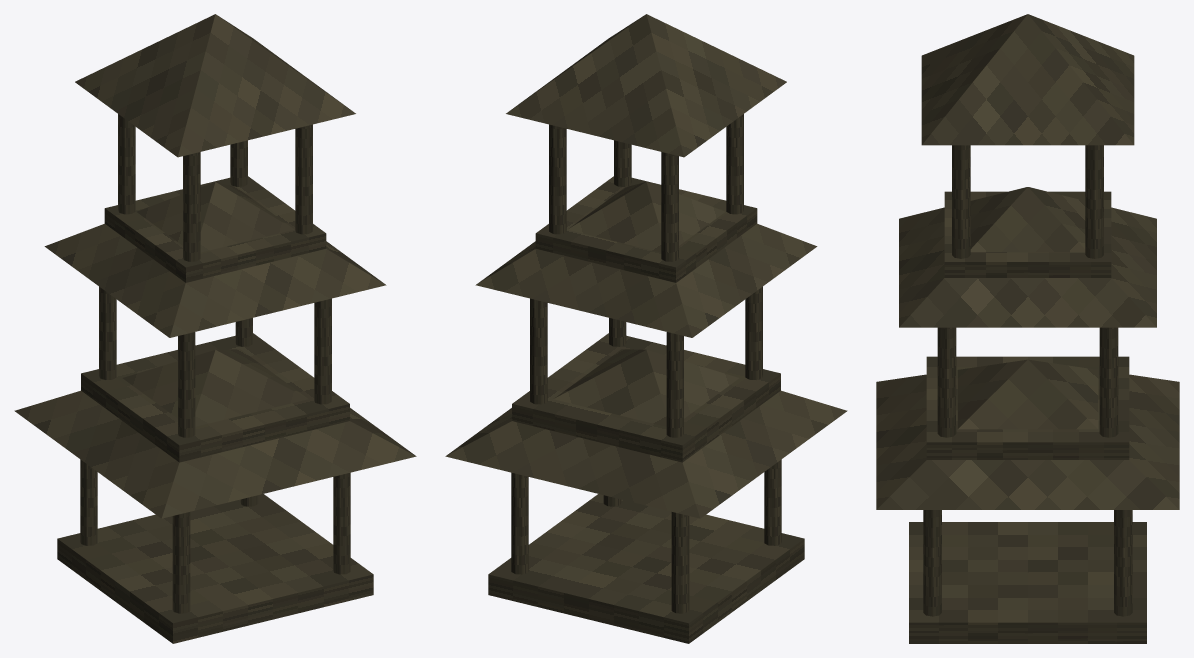
Rendered from pagoda_30.glb.
3 views of the same model, side by side, from view 1: azimuth 30°, elevation 25°; view 2: azimuth 150°, elevation 25°; view 3: azimuth 270°, elevation 25° (orthographic). The views are drawn at different scales.
Visible parts, largest first — view 1: Roof, Floor, Roof.001, Roof.002, Floor.001, Floor.002, Column.010, Column.008, Column, Column.004, Column.006, Column.002 (+4 smaller); view 2: Roof, Floor, Roof.001, Roof.002, Floor.001, Floor.002, Column.011, Column.009, Column.001, Column.005, Column.007, Column.003 (+4 smaller); view 3: Roof, Floor, Roof.001, Roof.002, Floor.001, Floor.002, Column.006, Column.007, Column.010, Column.011, Column.002, Column.003.
Part boxes in pixels (x1,y1,x2,y2): Roof: (14, 349, 416, 518); Floor: (57, 494, 373, 643); Roof.001: (44, 182, 386, 337); Roof.002: (75, 14, 355, 157); Floor.001: (81, 333, 349, 462); Floor.002: (104, 176, 326, 282); Column.010: (295, 124, 312, 234); Column.008: (183, 152, 200, 261); Column: (172, 512, 190, 613); Column.004: (178, 332, 195, 437); Column.006: (314, 298, 331, 404); Column.002: (333, 472, 350, 574); Roof: (445, 349, 847, 518); Floor: (488, 494, 804, 643); Roof.001: (475, 182, 817, 337); Roof.002: (506, 14, 786, 157); Floor.001: (512, 333, 780, 462); Floor.002: (535, 176, 757, 282); Column.011: (549, 124, 566, 234); Column.009: (661, 152, 678, 261); Column.001: (671, 512, 689, 613); Column.005: (666, 332, 683, 437); Column.007: (530, 298, 547, 404); Column.003: (511, 472, 528, 574); Roof: (876, 359, 1179, 509); Floor: (909, 522, 1146, 643); Roof.001: (899, 187, 1156, 327); Roof.002: (921, 14, 1134, 145); Floor.001: (926, 356, 1129, 459); Floor.002: (944, 191, 1111, 277); Column.006: (937, 327, 956, 437); Column.007: (1099, 327, 1118, 437); Column.010: (952, 145, 970, 258); Column.011: (1085, 145, 1103, 258); Column.002: (923, 510, 941, 616); Column.003: (1114, 510, 1132, 616).
Bounding box in the file's own units: 3.88 × 8.19 × 3.88.
1 material, 1 textured.
